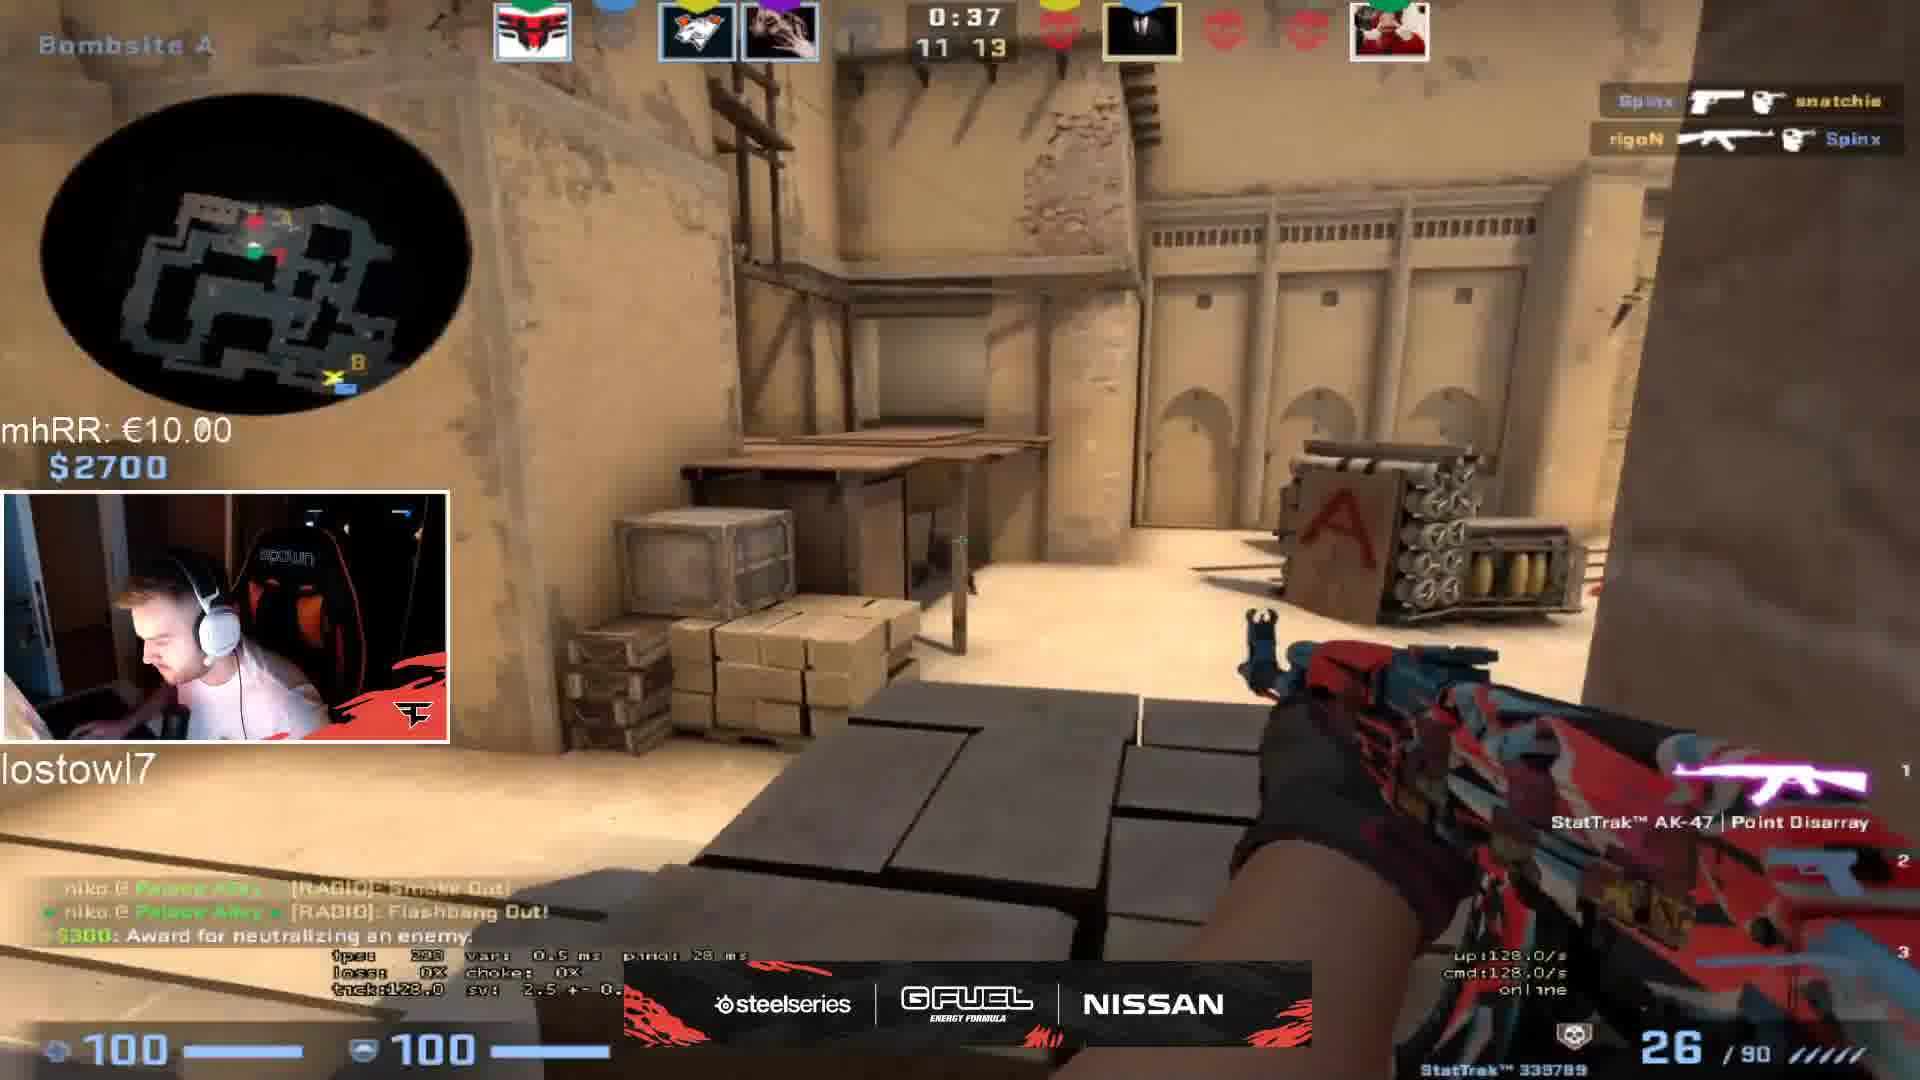enemy: (913, 524, 953, 593)
